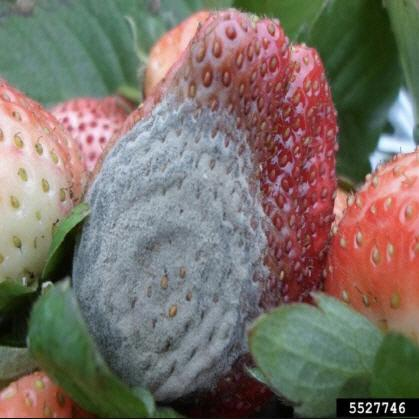Gray Mold: (70, 8, 340, 413)
